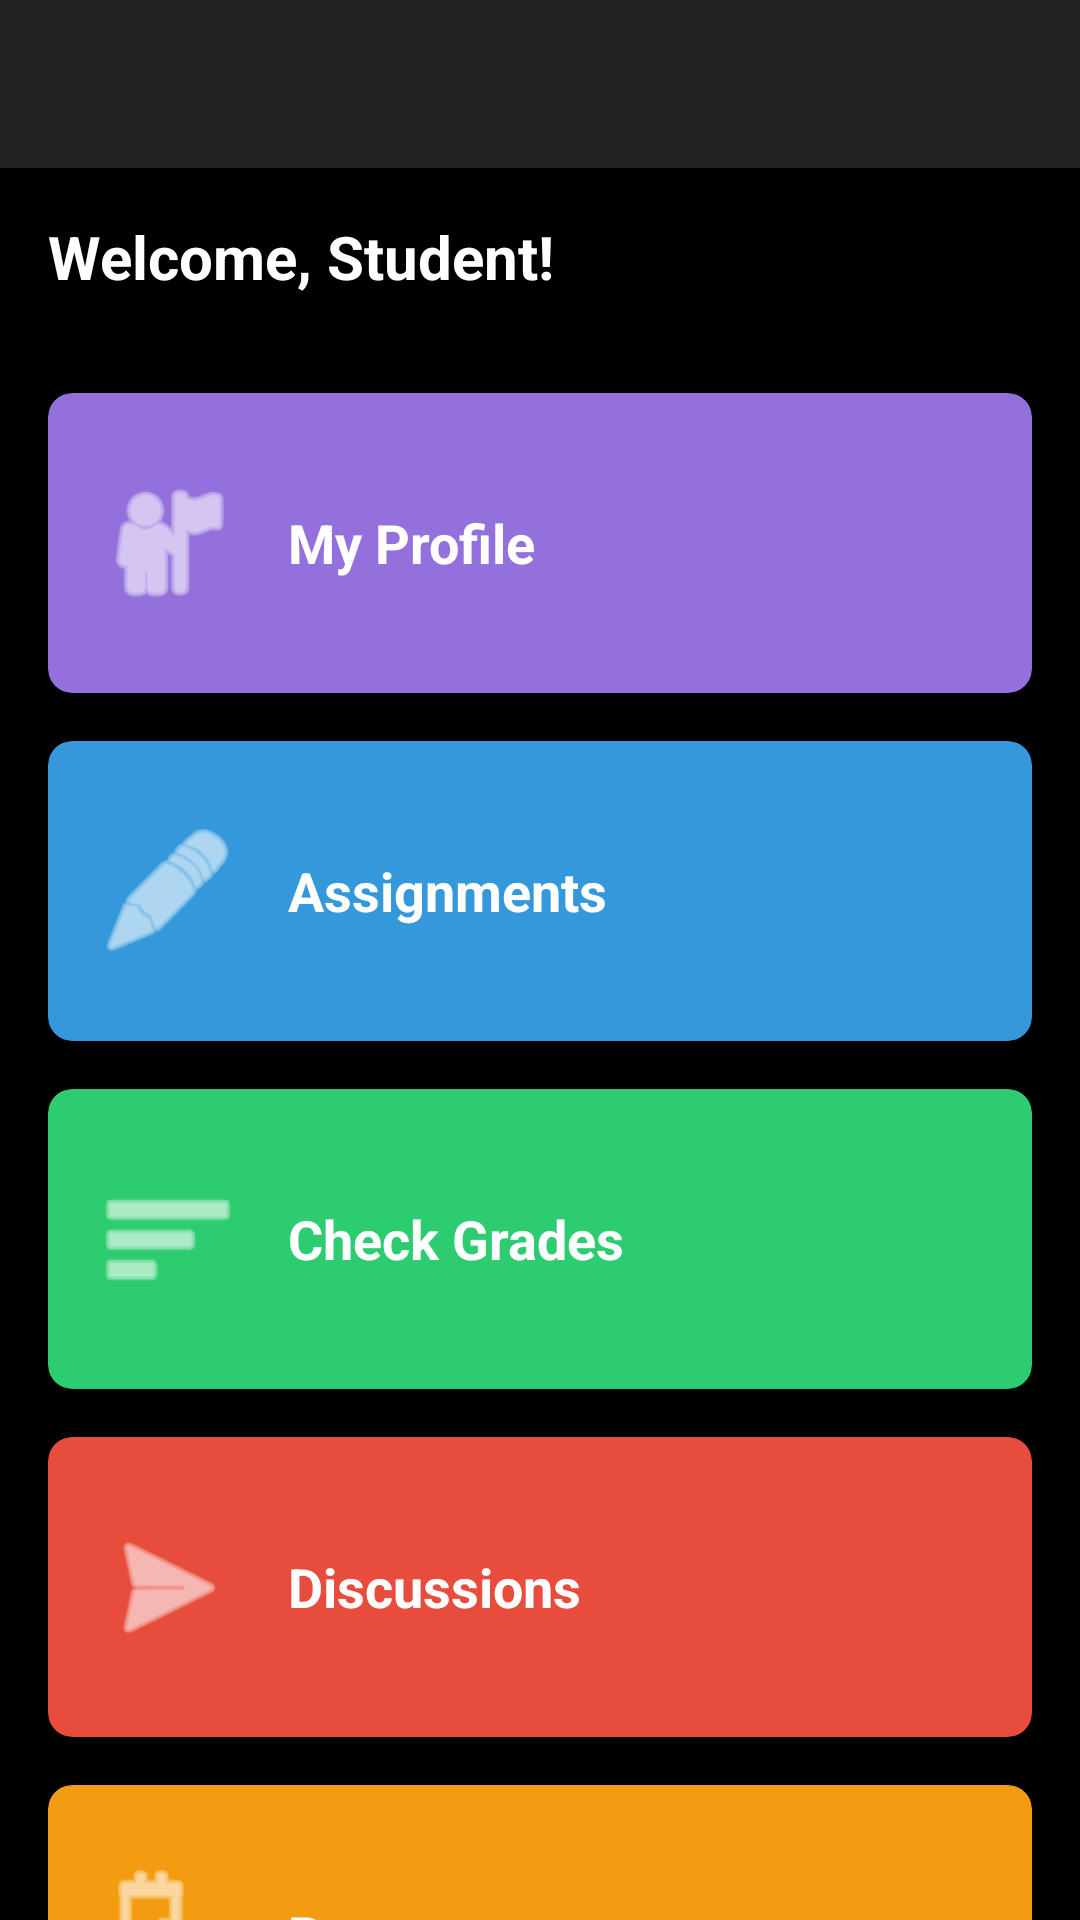

Icons on this 1080×1920 Android screen, each with its box as [left=x1, top=y1, right=x2, bottom=y2]:
edit: [left=106, top=829, right=228, bottom=951]
myplaces: [left=116, top=490, right=223, bottom=596]
send: [left=123, top=1542, right=215, bottom=1633]
sort by size: [left=106, top=1199, right=230, bottom=1280]
